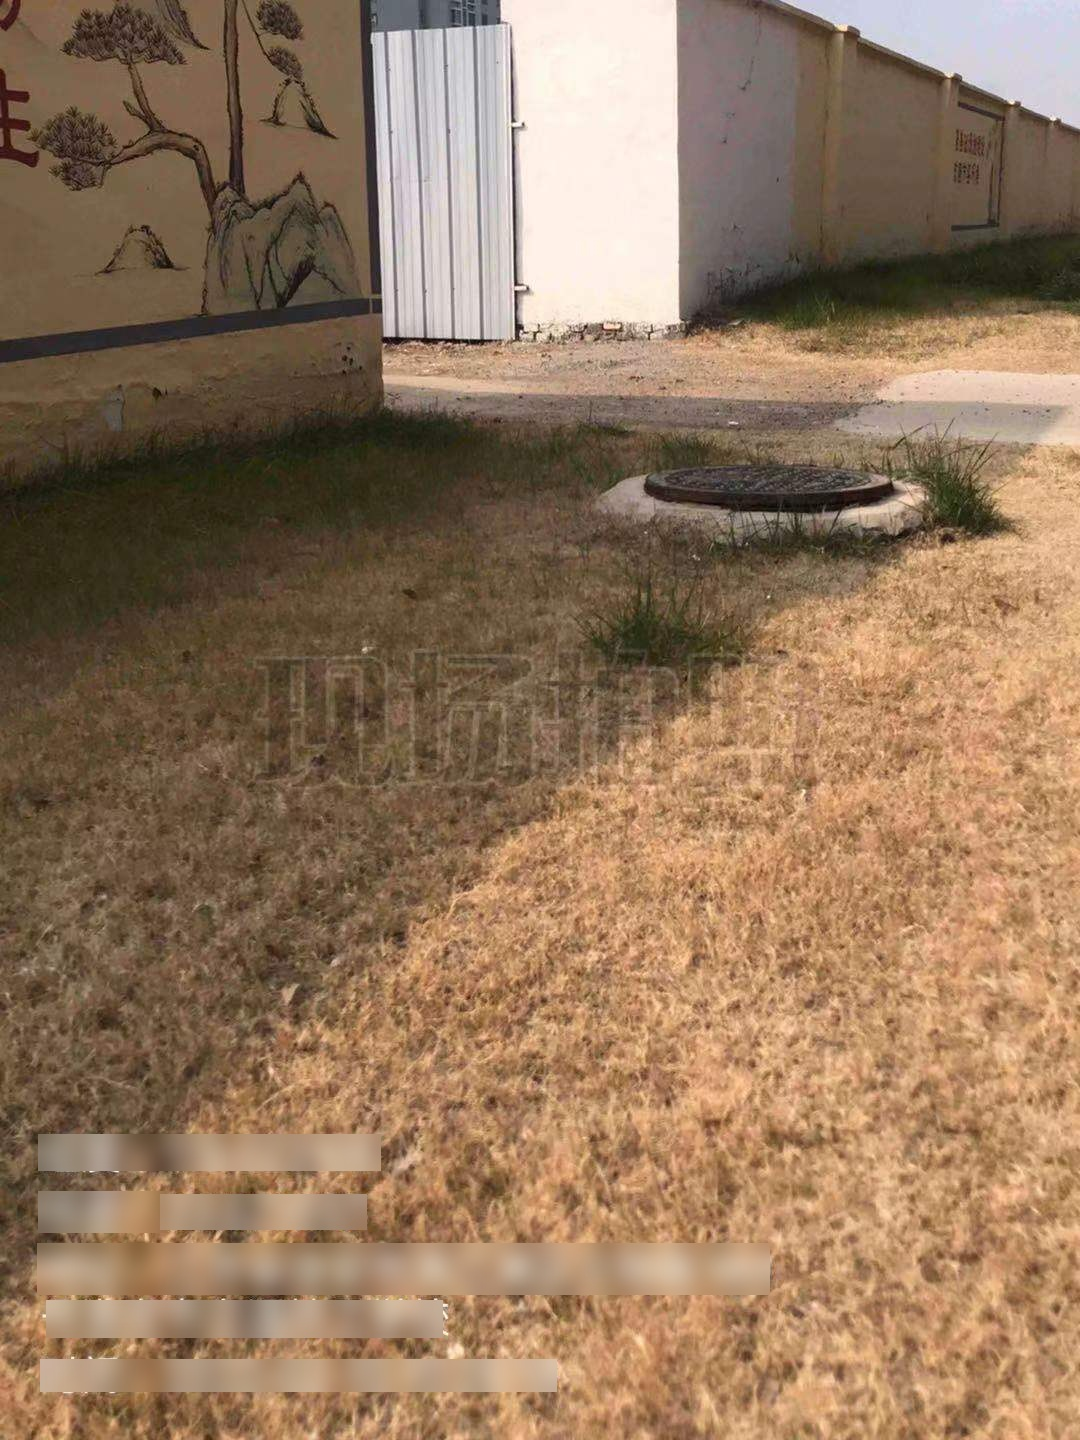uncovered: (628, 463, 928, 528)
